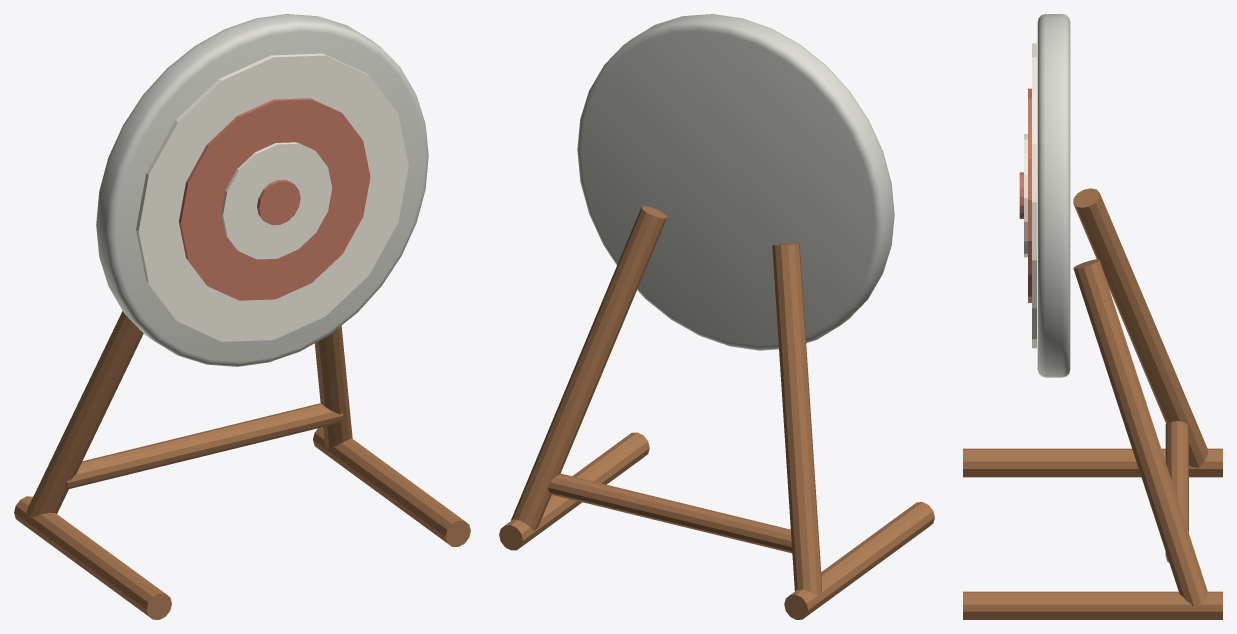
The model's file is game_dartboard.glb.
3 views of the same model, side by side, from view 1: azimuth 30°, elevation 25°; view 2: azimuth 150°, elevation 25°; view 3: azimuth 270°, elevation 25° (orthographic). The views are drawn at different scales.
Visible parts, largest first — view 1: Tint.004, Board face, Score ring, Score ring.001, Stand crossbar, Stand leg, Stand foot, Stand foot.001, Stand leg.001, Bullseye; view 2: Tint.004, Stand leg, Stand leg.001, Stand crossbar, Stand foot, Stand foot.001; view 3: Tint.004, Stand leg.001, Stand leg, Stand foot.001, Stand foot, Stand crossbar, Board face, Score ring, Score ring.001.
Part boxes in pixels (x1,y1,x2,y2): Tint.004: (96, 14, 428, 366); Board face: (136, 53, 408, 341); Score ring: (179, 98, 370, 300); Score ring.001: (221, 142, 332, 259); Stand crossbar: (65, 403, 343, 489); Stand leg: (26, 311, 143, 518); Stand foot: (14, 496, 171, 619); Stand foot.001: (313, 427, 470, 546); Stand leg.001: (314, 325, 352, 449); Bullseye: (257, 179, 300, 225); Tint.004: (577, 14, 894, 350); Stand leg: (772, 243, 821, 595); Stand leg.001: (511, 206, 666, 530); Stand crossbar: (548, 473, 792, 553); Stand foot: (784, 502, 934, 619); Stand foot.001: (499, 432, 649, 550); Tint.004: (1037, 14, 1070, 377); Stand leg.001: (1073, 259, 1207, 606); Stand leg: (1073, 188, 1208, 467); Stand foot.001: (963, 591, 1222, 619); Stand foot: (963, 448, 1222, 477); Stand crossbar: (1165, 421, 1188, 562); Board face: (1032, 43, 1036, 348); Score ring: (1028, 88, 1031, 302); Score ring.001: (1024, 134, 1027, 257).
Size of the model in its own units: 0.564 by 0.877 by 0.4.
